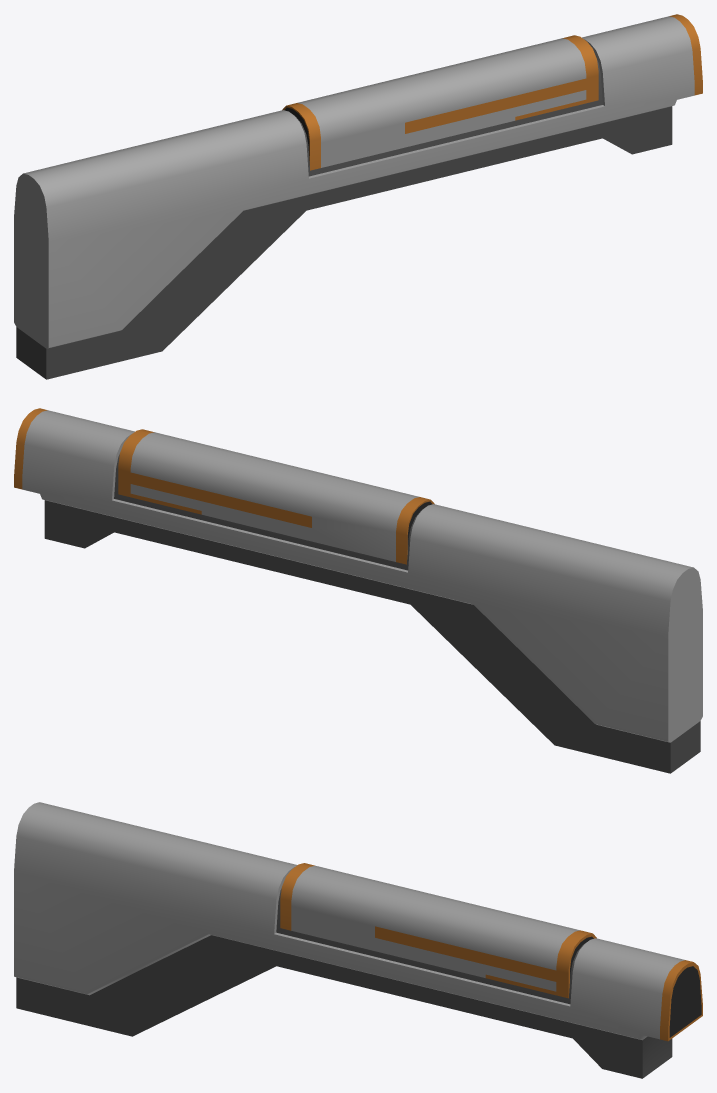
File: quaternius-modular-sci-fi-guns-body-ar-6.glb
The picture shows the model from 3 angles, top to bottom: view 1: azimuth 30°, elevation 25°; view 2: azimuth 150°, elevation 25°; view 3: azimuth 330°, elevation 25°; orthographic projection.
Parts seen in each view (by area): view 1: Body_AR_6; view 2: Body_AR_6; view 3: Body_AR_6.
Boxes of the visible parts, x1=… form: Body_AR_6: x1=14, y1=14, x2=702, y2=379; Body_AR_6: x1=14, y1=408, x2=702, y2=773; Body_AR_6: x1=14, y1=802, x2=702, y2=1078.
Bounding box in the file's own units: 1.49 × 0.423 × 0.1369.
